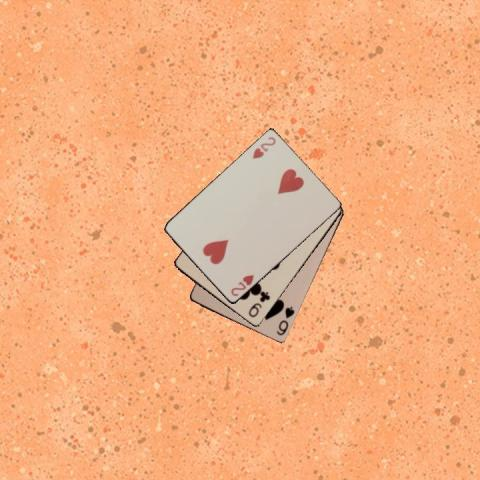2h: (250, 134, 278, 161), (228, 272, 255, 298)
6s: (273, 304, 296, 338)
9c: (246, 289, 272, 319)
